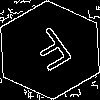F: (25, 25, 82, 80)
